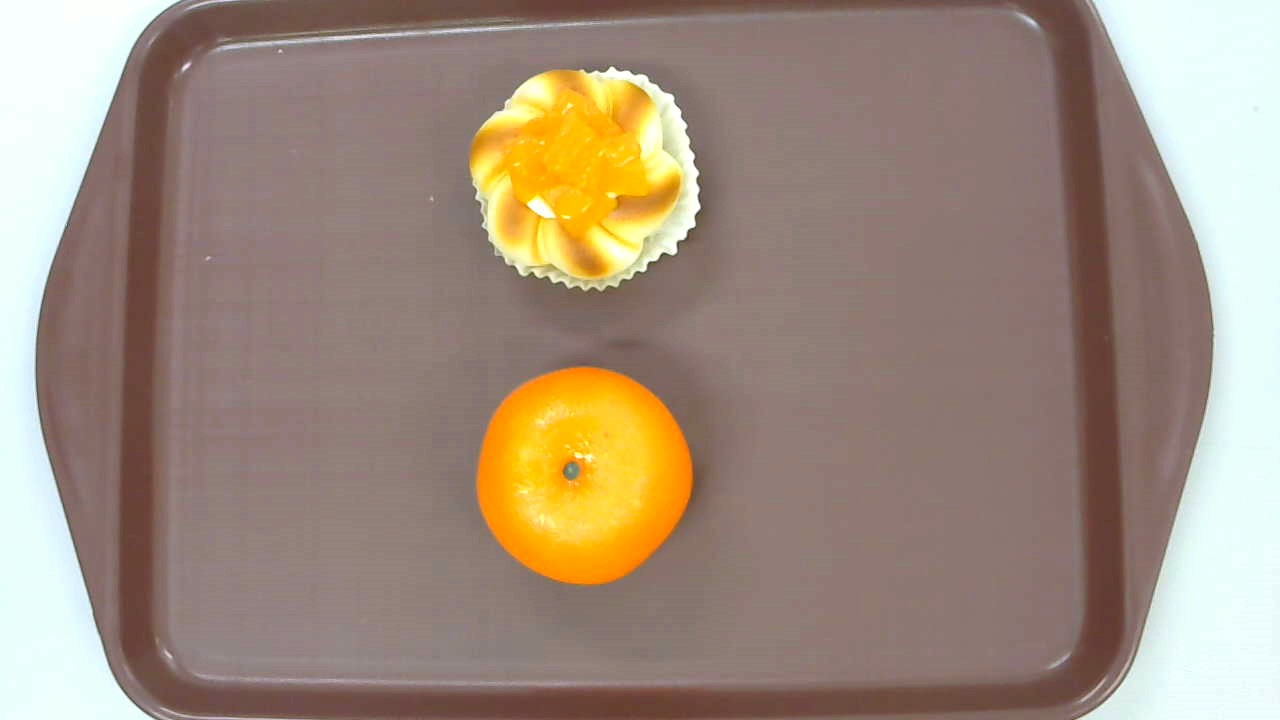mango tart: (467, 67, 703, 293)
orange: (473, 365, 693, 585)
